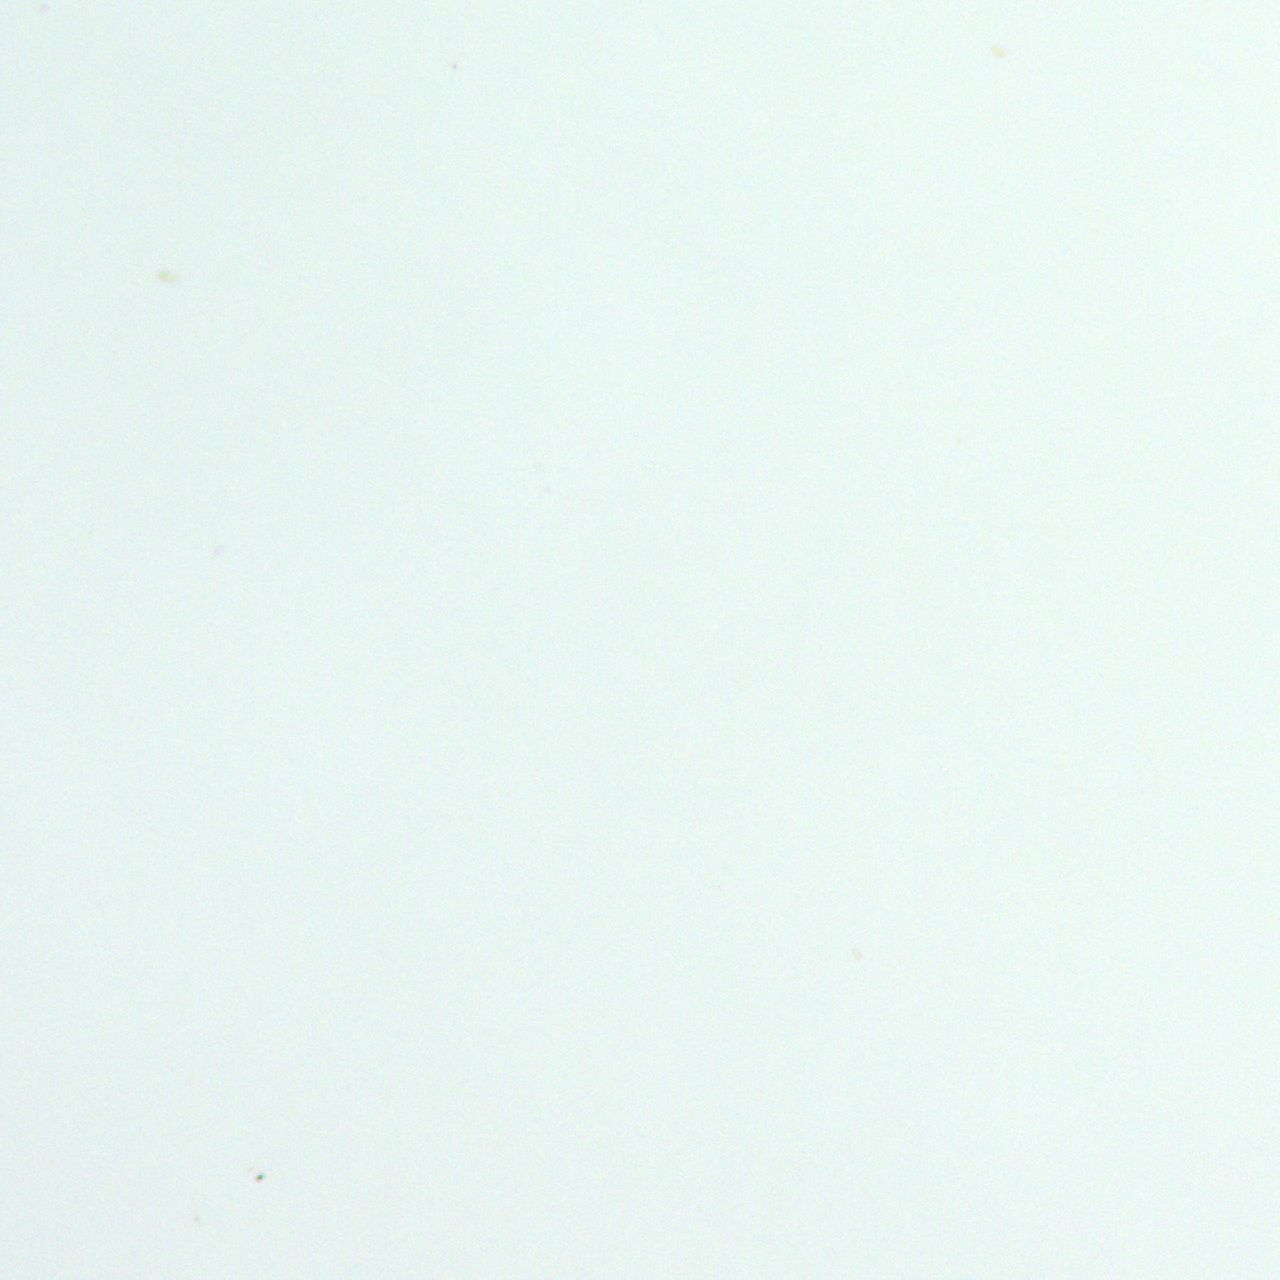dust: (256, 1172, 268, 1180)
